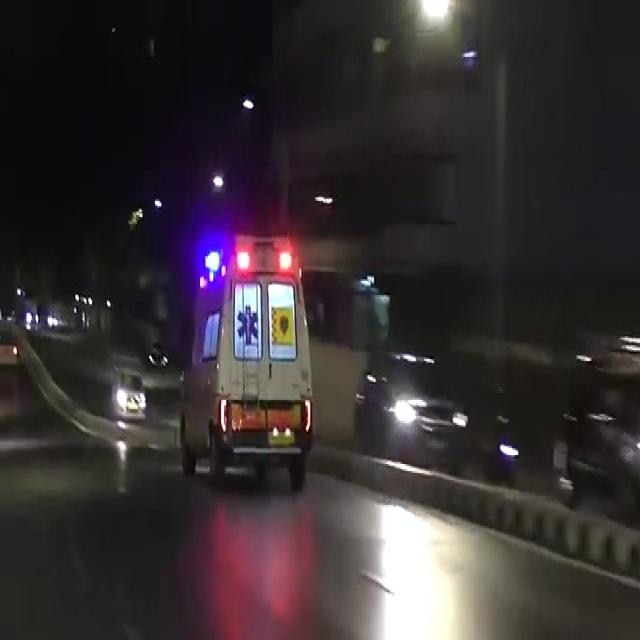ambulance: (185, 222, 324, 464)
